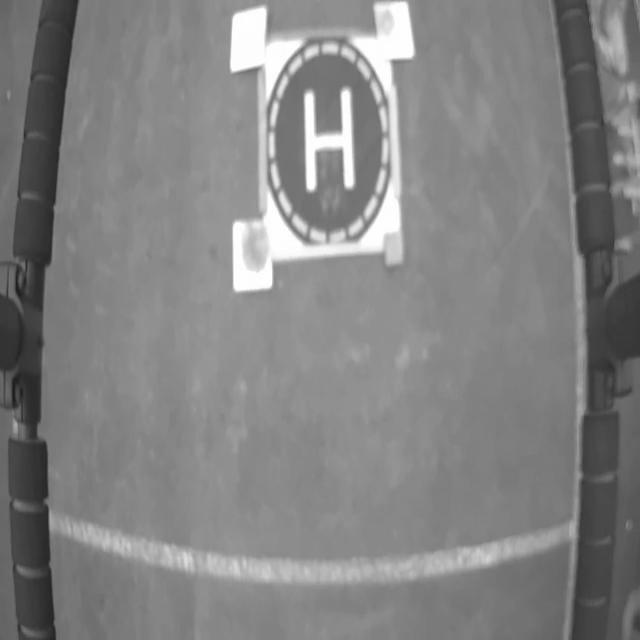Helipad: (304, 88, 356, 193)
